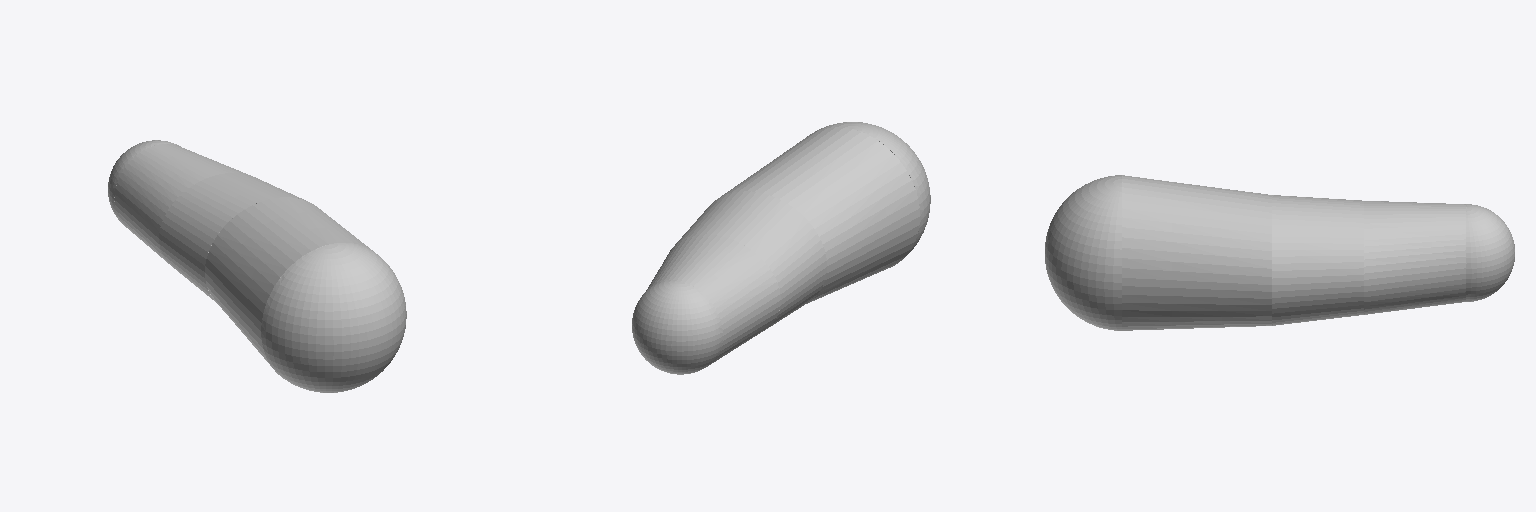
Rendered from L_LEG_THIGH_.obj.
3 renders of one model, left to right at view 1: azimuth 30°, elevation 25°; view 2: azimuth 150°, elevation 25°; view 3: azimuth 270°, elevation 25°, orthographic.
Bounding box in the file's own units: 0.1728 × 0.1587 × 0.4792.